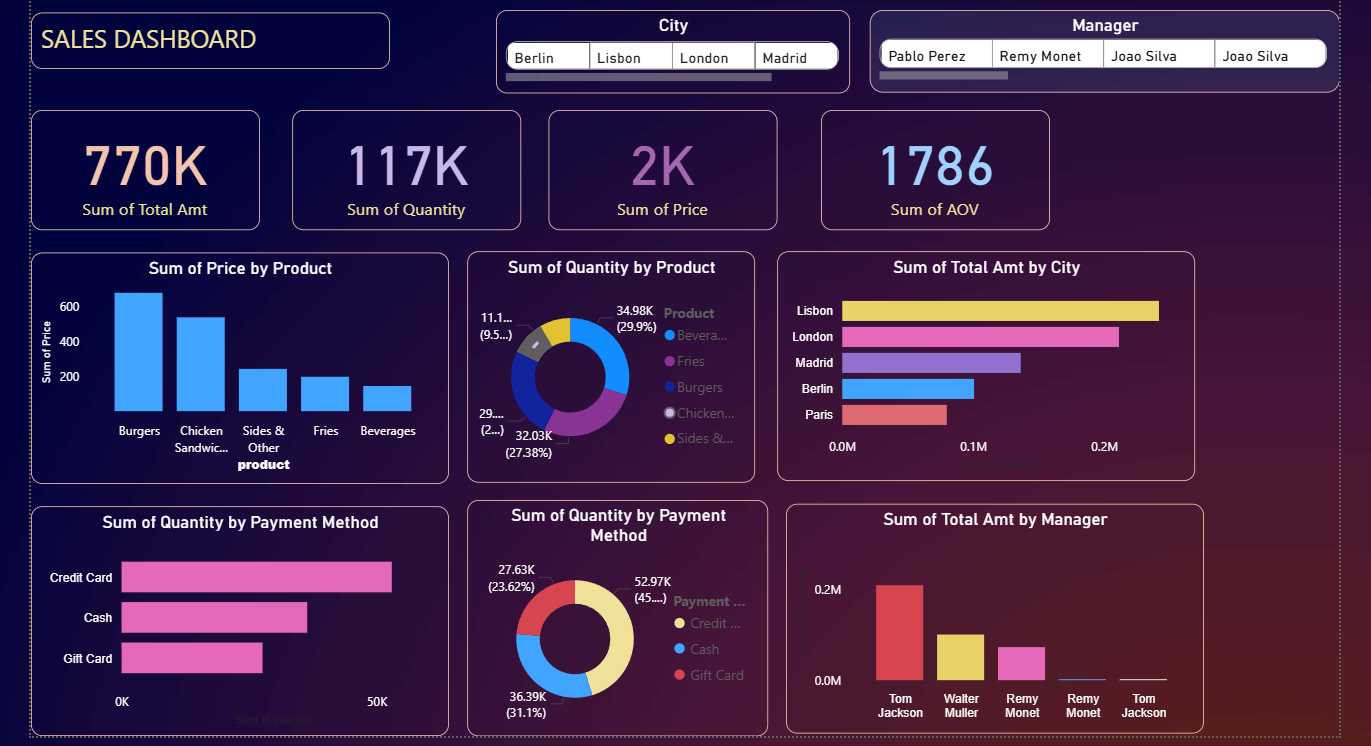

Layout of this report page (visuals, bound fields, positions):
{"tool":"powerbi","page":{"name":"Page 1","canvas":[1280,720],"ordinal":0},"visuals":[{"type":"clusteredColumnChart","fields":{"Category":["9  Sales-Data-Analysis.Product"],"Y":["9  Sales-Data-Analysis.Price"]},"box":[0,247,408.4,226.2],"z":0},{"type":"barChart","fields":{"Y":["9  Sales-Data-Analysis.Quantity"],"Category":["9  Sales-Data-Analysis.Payment Method"]},"box":[0,495.2,408.4,225],"z":1000},{"type":"donutChart","fields":{"Category":["9  Sales-Data-Analysis.Product"],"Y":["9  Sales-Data-Analysis.Quantity"]},"box":[426.8,245.8,281.3,226.2],"z":2000},{"type":"donutChart","fields":{"Category":["9  Sales-Data-Analysis.Payment Method"],"Y":["9  Sales-Data-Analysis.Quantity"]},"box":[426.8,489.1,294.7,231.1],"z":3000},{"type":"card","fields":{"Values":["9  Sales-Data-Analysis.Total Amt"]},"box":[0,107.6,223.8,117.4],"z":4000},{"type":"card","fields":{"Values":["9  Sales-Data-Analysis.Quantity"]},"box":[255.6,107.6,223.8,117.4],"z":5000},{"type":"card","fields":{"Values":["9  Sales-Data-Analysis.Price"]},"box":[506.3,107.6,223.8,117.4],"z":6000},{"type":"card","fields":{"Values":["9  Sales-Data-Analysis.AOV"]},"box":[772.8,107.6,223.8,117.4],"z":7000},{"type":"barChart","fields":{"Y":["9  Sales-Data-Analysis.Total Amt"],"Category":["9  Sales-Data-Analysis.City"]},"box":[730,245.8,408.4,225],"z":8000},{"type":"columnChart","fields":{"Category":["9  Sales-Data-Analysis.Manager"],"Y":["9  Sales-Data-Analysis.Total Amt"]},"box":[738.6,492.8,408.4,225],"z":9000},{"type":"textbox","box":[0,12.5,351.2,55],"z":10000},{"type":"advancedSlicerVisual","fields":{"Values":["9  Sales-Data-Analysis.Manager"]},"box":[820.5,9.8,459.8,80.7],"z":10001},{"type":"advancedSlicerVisual","fields":{"Values":["9  Sales-Data-Analysis.City"]},"box":[454.9,9.8,346.1,81.9],"z":10002}]}

Visuals, with their boxes in screenshot pixels (x1, y1, x2, y2):
clusteredColumnChart - 9  Sales-Data-Analysis.Product x 9  Sales-Data-Analysis.Price: (x1=25, y1=249, x2=442, y2=480)
barChart - 9  Sales-Data-Analysis.Quantity x 9  Sales-Data-Analysis.Payment Method: (x1=25, y1=503, x2=442, y2=733)
donutChart - 9  Sales-Data-Analysis.Product x 9  Sales-Data-Analysis.Quantity: (x1=461, y1=248, x2=749, y2=479)
donutChart - 9  Sales-Data-Analysis.Payment Method x 9  Sales-Data-Analysis.Quantity: (x1=461, y1=496, x2=762, y2=733)
card - 9  Sales-Data-Analysis.Total Amt: (x1=25, y1=106, x2=254, y2=226)
card - 9  Sales-Data-Analysis.Quantity: (x1=286, y1=106, x2=515, y2=226)
card - 9  Sales-Data-Analysis.Price: (x1=542, y1=106, x2=771, y2=226)
card - 9  Sales-Data-Analysis.AOV: (x1=815, y1=106, x2=1044, y2=226)
barChart - 9  Sales-Data-Analysis.Total Amt x 9  Sales-Data-Analysis.City: (x1=771, y1=248, x2=1189, y2=478)
columnChart - 9  Sales-Data-Analysis.Manager x 9  Sales-Data-Analysis.Total Amt: (x1=780, y1=500, x2=1197, y2=730)
textbox: (x1=25, y1=9, x2=384, y2=65)
advancedSlicerVisual - 9  Sales-Data-Analysis.Manager: (x1=864, y1=6, x2=1334, y2=89)
advancedSlicerVisual - 9  Sales-Data-Analysis.City: (x1=490, y1=6, x2=844, y2=90)
